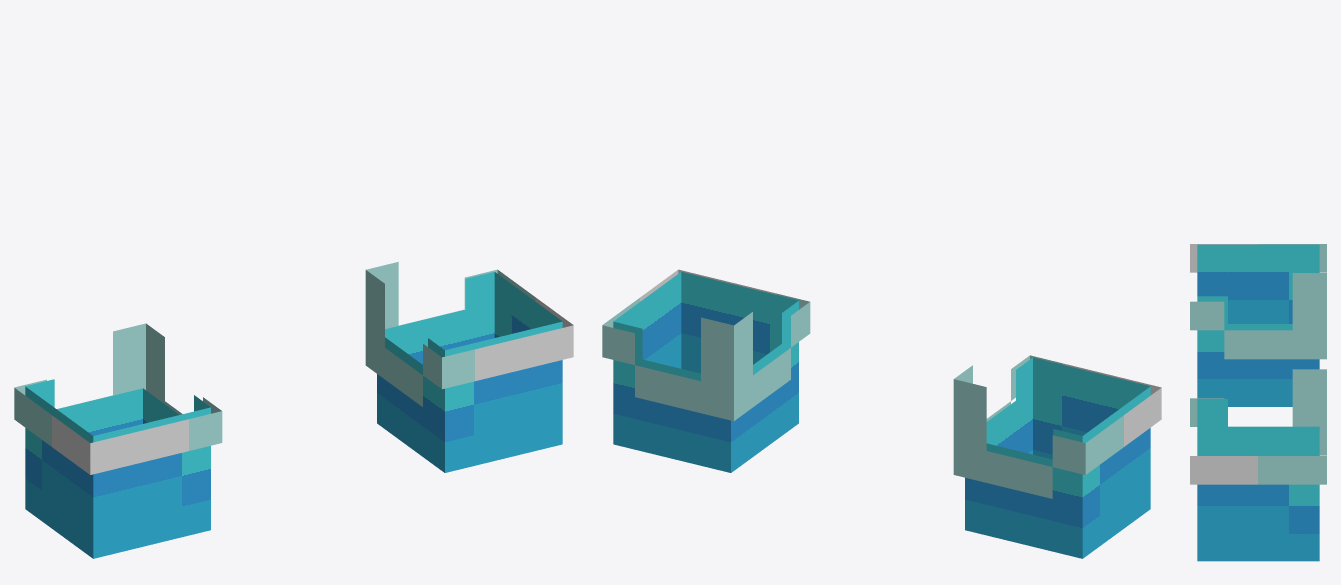
The model's file is sl_water_fists.glb.
3 renders of one model, left to right at view 1: azimuth 30°, elevation 25°; view 2: azimuth 150°, elevation 25°; view 3: azimuth 270°, elevation 25°, orthographic. The views are drawn at different scales.
Visible parts, largest first — view 1: bb_water_fists; view 2: bb_water_fists; view 3: bb_water_fists.
Boxes of the visible parts, x1,y1,x2,y2 form: bb_water_fists: [14, 262, 573, 558]; bb_water_fists: [602, 269, 1161, 558]; bb_water_fists: [1190, 244, 1326, 561].
Bounding box in the file's own units: 1.03 × 0.7812 × 0.2812.
Materials: 1 (1 with a texture image).
